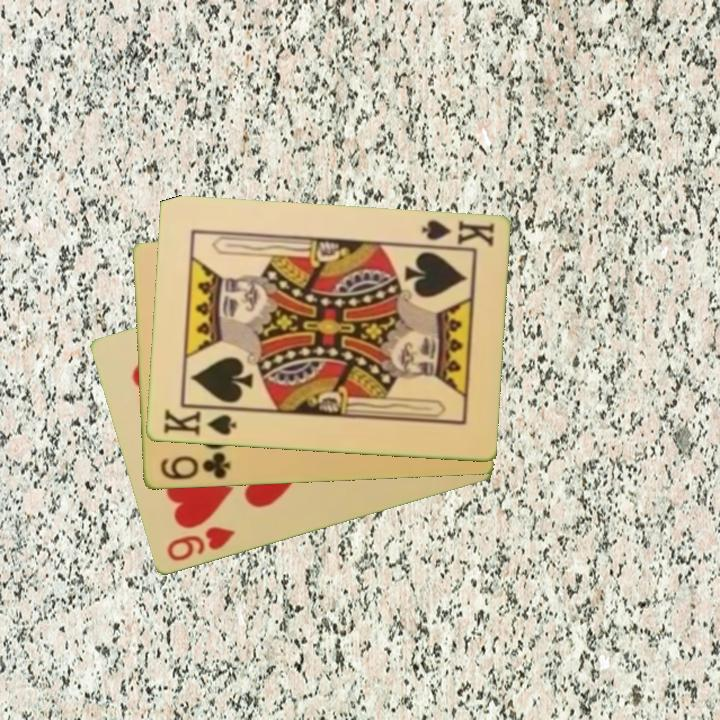6c: (156, 449, 233, 483)
9h: (163, 523, 237, 565)
Ks: (414, 217, 497, 252), (159, 405, 239, 439)
